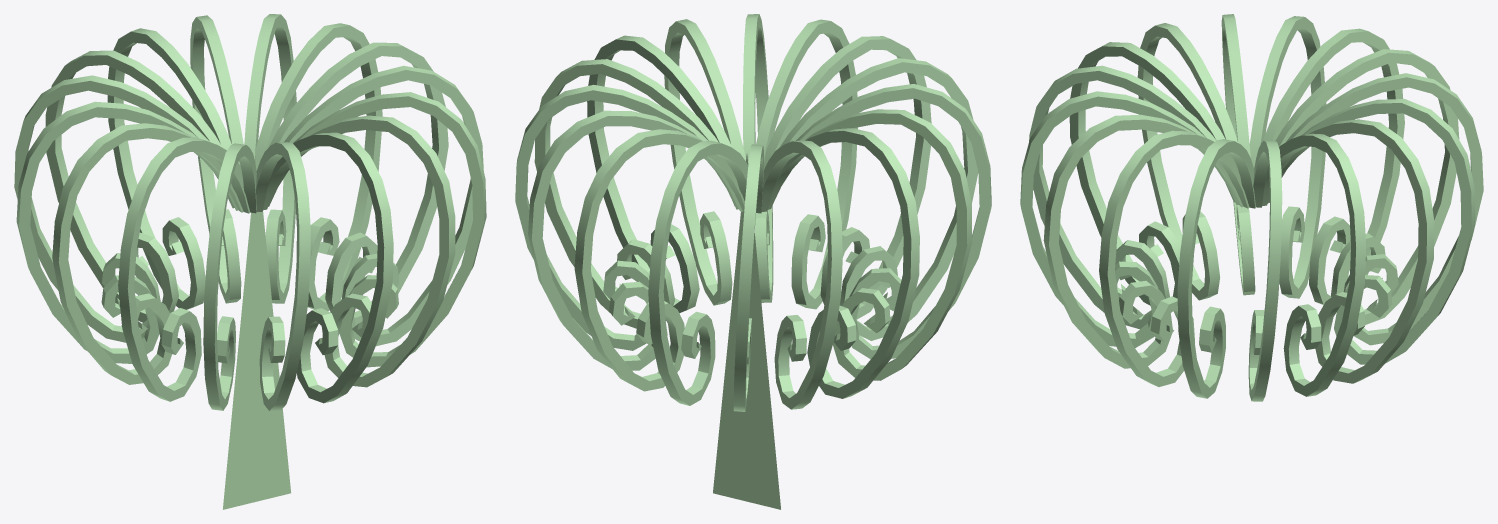
File: garden tree3.fbx
3 views of the same model, side by side, from view 1: azimuth 30°, elevation 25°; view 2: azimuth 150°, elevation 25°; view 3: azimuth 270°, elevation 25° (orthographic). The views are drawn at different scales.
Visible parts, largest first — view 1: revolvedSurface5, nurbsToPoly4; view 2: revolvedSurface5, nurbsToPoly4; view 3: revolvedSurface5.
Boxes of the visible parts, bbox=[...] form: revolvedSurface5: bbox=[14, 14, 486, 410]; nurbsToPoly4: bbox=[222, 153, 290, 509]; revolvedSurface5: bbox=[515, 14, 991, 411]; nurbsToPoly4: bbox=[713, 154, 780, 509]; revolvedSurface5: bbox=[1020, 14, 1483, 401].
Bounding box in the file's own units: 13.51 × 13.07 × 13.51.
